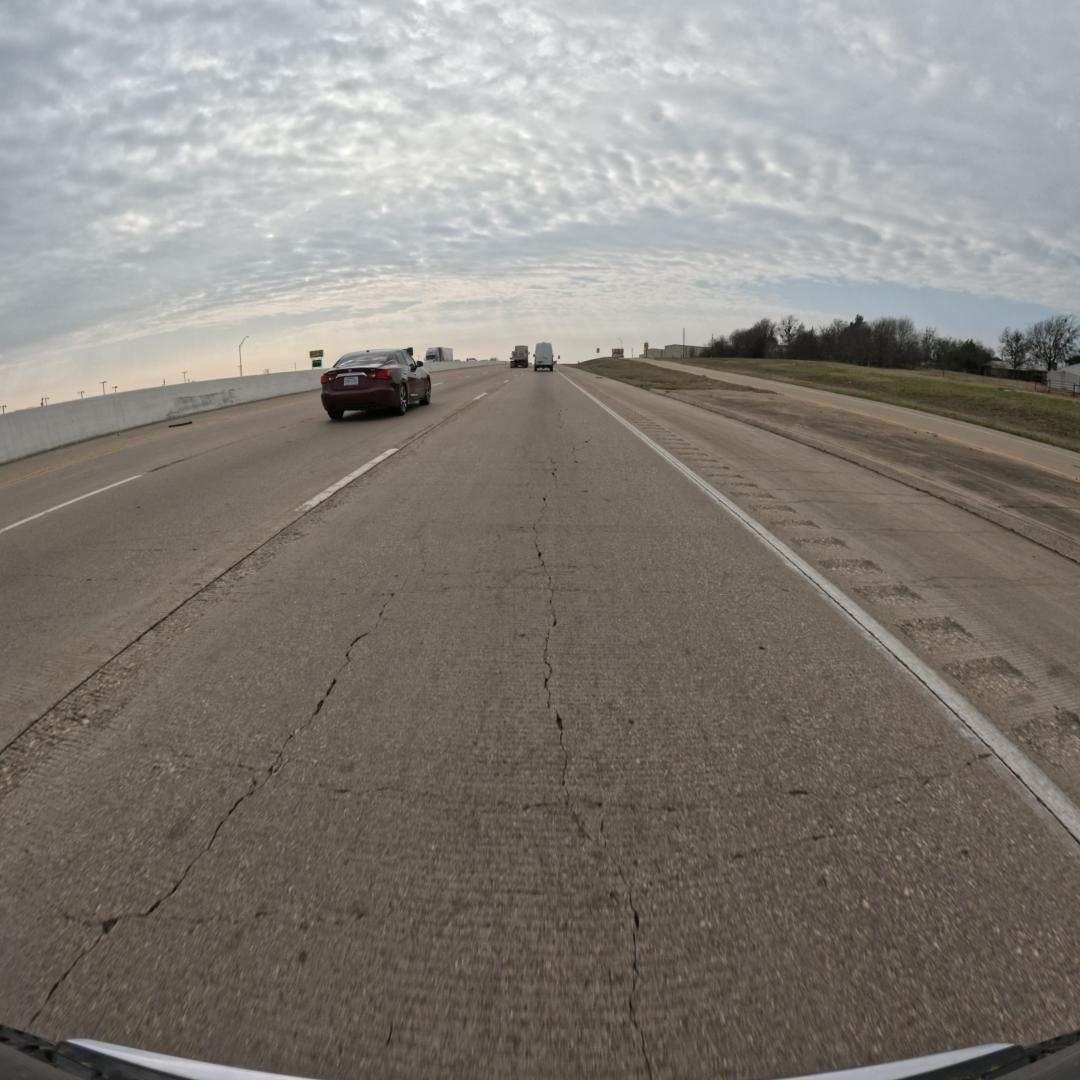lane0: (0, 376, 1080, 1077)
lane1: (0, 373, 503, 752)
